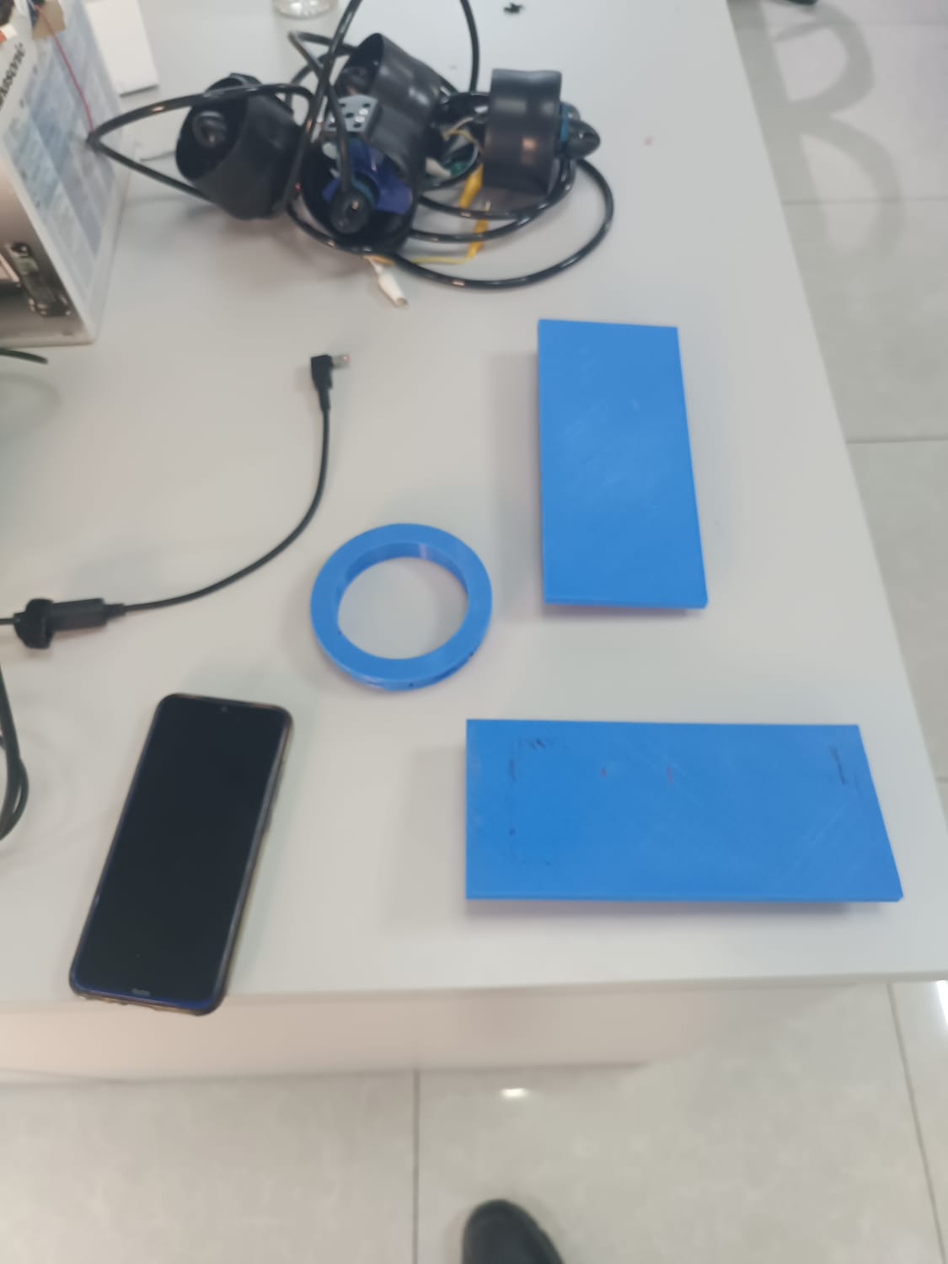Circle: (308, 516, 498, 695)
Rectangular: (454, 711, 910, 912), (528, 310, 715, 618)
